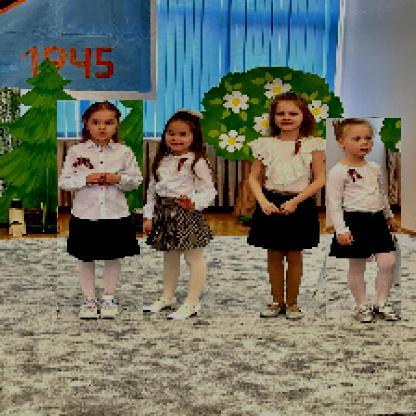child: (247, 95, 335, 322), (58, 101, 145, 323), (142, 112, 220, 322), (327, 119, 403, 325)
